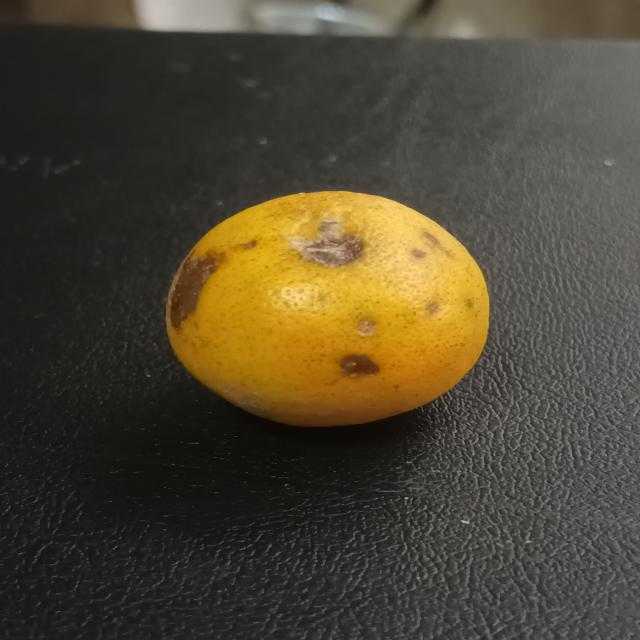black spot: (157, 188, 498, 430)
